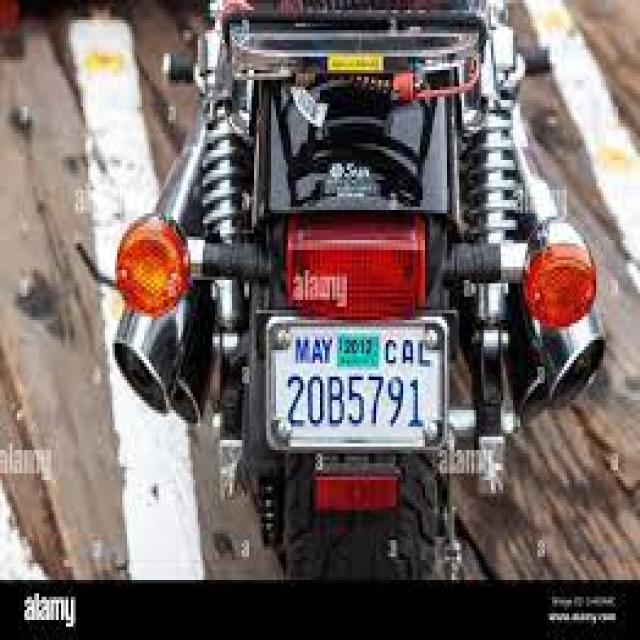number plate: (261, 310, 447, 453)
